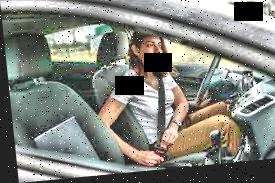seatbelt: (136, 56, 179, 162)
